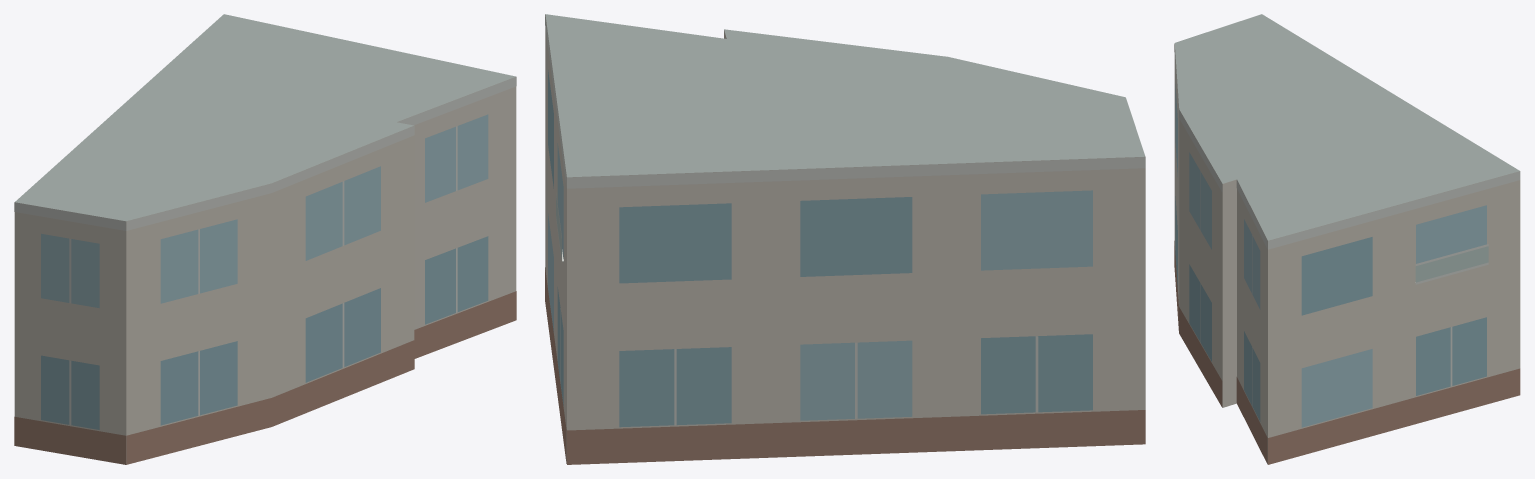
Rendered from survey-upis-32935254.glb.
The picture shows the model from 3 angles, left to right: view 1: azimuth 30°, elevation 25°; view 2: azimuth 150°, elevation 25°; view 3: azimuth 270°, elevation 25°; orthographic projection. The views are drawn at different scales.
Visible parts, largest first — view 1: survey-upis-32935254.tmp; view 2: survey-upis-32935254.tmp; view 3: survey-upis-32935254.tmp.
Boxes of the visible parts, <box> form: survey-upis-32935254.tmp: <box>14,14,516,464</box>; survey-upis-32935254.tmp: <box>545,14,1145,464</box>; survey-upis-32935254.tmp: <box>1174,14,1520,464</box>.
Bounding box in the file's own units: 13.25 × 6.1 × 8.54.
